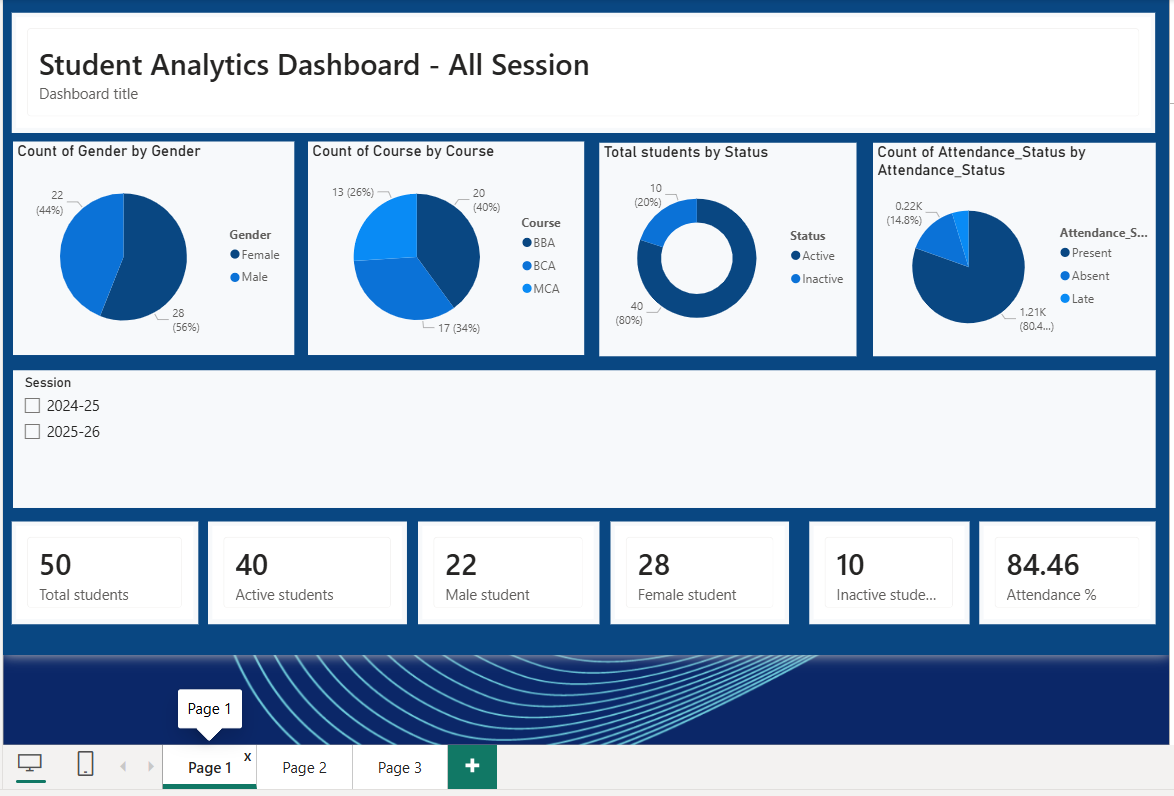

The dashboard page shown, as its layout file describes it:
{"tool":"powerbi","page":{"name":"Page 1","canvas":[1280,720],"ordinal":0},"visuals":[{"type":"cardVisual","fields":{"Data":["Students.Inactive students"]},"box":[885.1,573.6,175.6,112.5],"z":0},{"type":"cardVisual","fields":{"Data":["Attendance.Total students"]},"box":[9.6,573.6,204.5,112.5],"z":1000},{"type":"cardVisual","fields":{"Data":["Students.Female student"]},"box":[666.9,573.6,196.2,112.5],"z":2000},{"type":"cardVisual","fields":{"Data":["Students.Male student"]},"box":[455.6,573.6,199,112.5],"z":3000},{"type":"cardVisual","fields":{"Data":["Students.Active students"]},"box":[225,573.6,218.2,112.5],"z":4000},{"type":"pieChart","fields":{"Category":["Students.Gender"],"Y":["CountNonNull(Students.Gender)"]},"box":[11,156.4,308.7,234.6],"z":5000},{"type":"pieChart","fields":{"Category":["Students.Course"],"Y":["CountNonNull(Students.Course)"]},"box":[334.8,156.4,303.3,234.6],"z":6000},{"type":"donutChart","fields":{"Category":["Students.Status"],"Y":["Attendance.Total students"]},"box":[654.5,157.8,282.7,234.6],"z":7000},{"type":"cardVisual","fields":{"Data":["Students.Dashboard title"]},"box":[9.6,15.1,1255.6,131.7],"z":8000},{"type":"slicer","fields":{"Values":["Students.Session"]},"box":[11,407.5,1254.2,150.9],"z":9000},{"type":"cardVisual","fields":{"Data":["Attendance.Attendance %"]},"box":[1071.7,573.6,193.5,112.5],"z":10000},{"type":"pieChart","fields":{"Category":["Attendance.Attendance_Status"],"Y":["CountNonNull(Attendance.Attendance_Status)"]},"box":[955.1,157.8,310.1,234.6],"z":11000}]}

Visuals, with their boxes in screenshot pixels (x1, y1, x2, y2):
cardVisual - Students.Inactive students: region(804, 516, 962, 618)
cardVisual - Attendance.Total students: region(12, 516, 197, 618)
cardVisual - Students.Female student: region(606, 516, 784, 618)
cardVisual - Students.Male student: region(415, 516, 595, 618)
cardVisual - Students.Active students: region(207, 516, 404, 618)
pieChart - Students.Gender x CountNonNull(Students.Gender): region(13, 138, 292, 351)
pieChart - Students.Course x CountNonNull(Students.Course): region(306, 138, 580, 351)
donutChart - Students.Status x Attendance.Total students: region(595, 140, 851, 352)
cardVisual - Students.Dashboard title: region(12, 11, 1147, 130)
slicer - Students.Session: region(13, 366, 1147, 502)
cardVisual - Attendance.Attendance %: region(972, 516, 1147, 618)
pieChart - Attendance.Attendance_Status x CountNonNull(Attendance.Attendance_Status): region(867, 140, 1147, 352)
